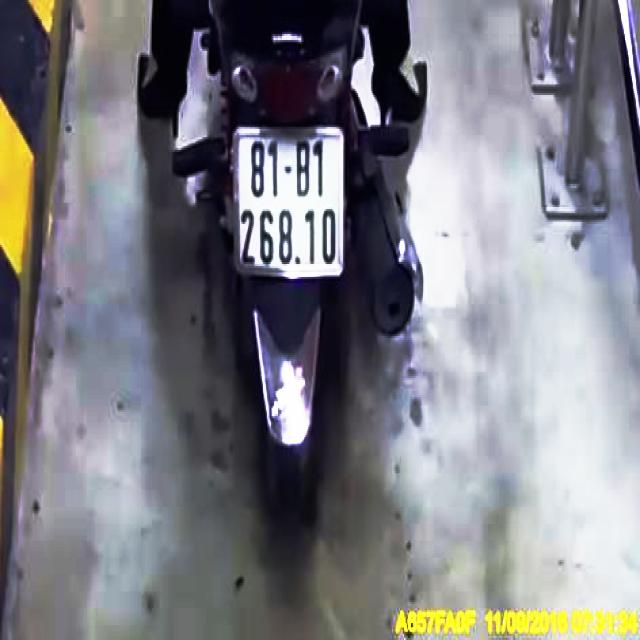license_plate: (236, 129, 344, 274)
